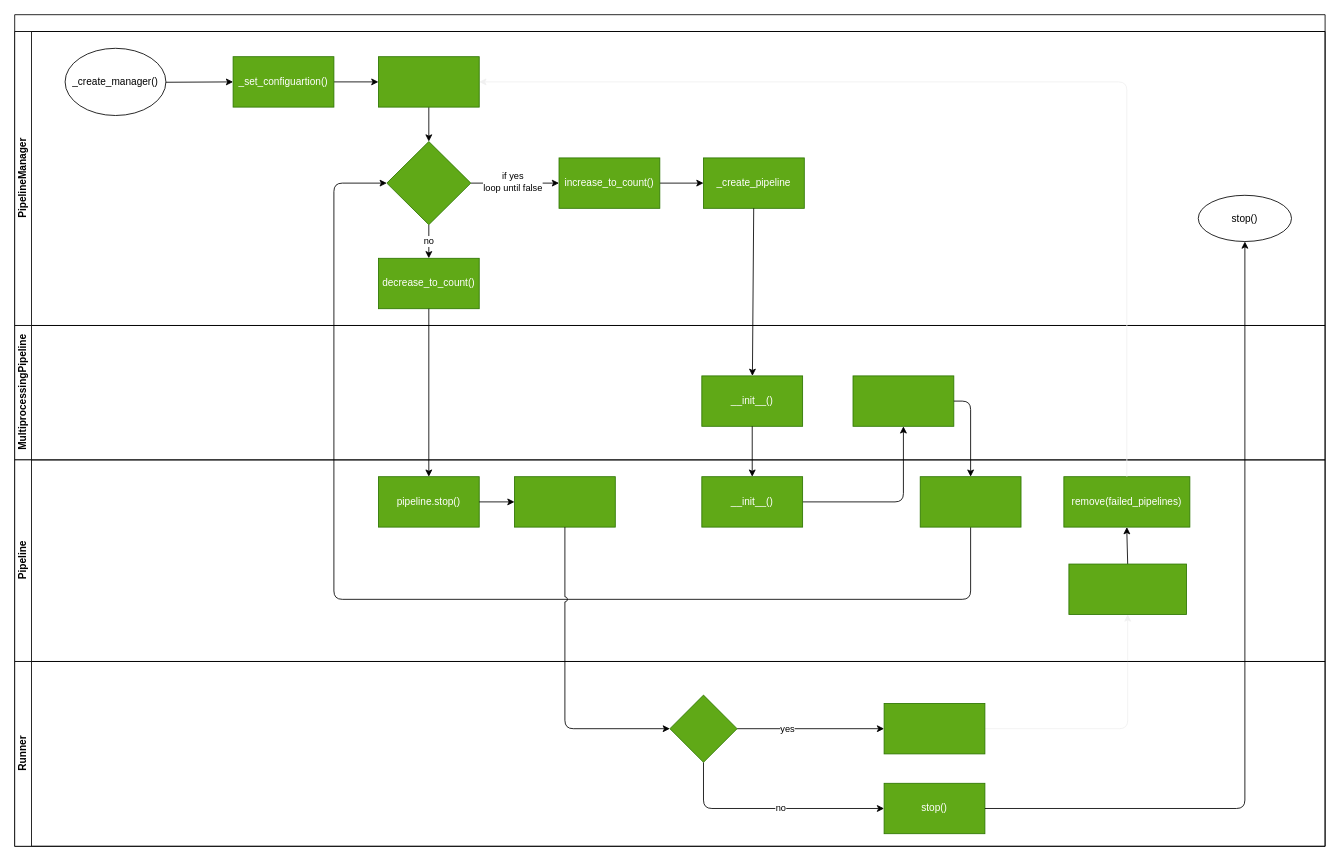
This 1340x861 diagram has some shape labels left out. The centre of each missing label's shape, as x and y in pixels:
"_loop()" belongs at pixel 934 728.
"count > len(_pipeline)" belongs at pixel 428 183.
"keep_ iterating()?" belongs at pixel 703 728.
"pipeline.join()" belongs at pixel 564 501.
"pipeline.run()" belongs at pixel 970 501.
"pipeline.start()" belongs at pixel 903 400.
"restart_failed_pipeline()" belongs at pixel 1127 588.
"set_count()" belongs at pixel 428 81.
